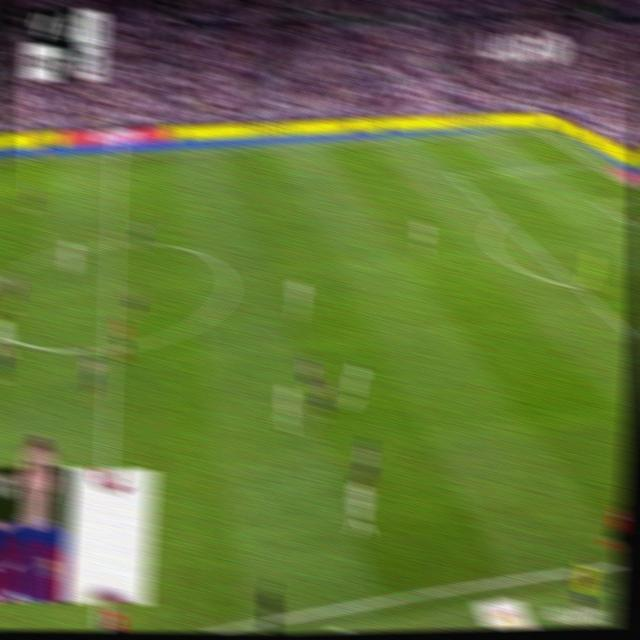bigarea_top_inner: (448, 168, 461, 182)
bigarea_top_outter: (583, 156, 597, 169)
bottom_arc_area_intersection: (566, 274, 584, 294)
halfcircle_bottom: (100, 336, 119, 361)
halfcircle_top: (103, 230, 122, 255)
smallarea_top_inner: (593, 194, 607, 209)
top_arc_area_intersection: (493, 209, 510, 226)
